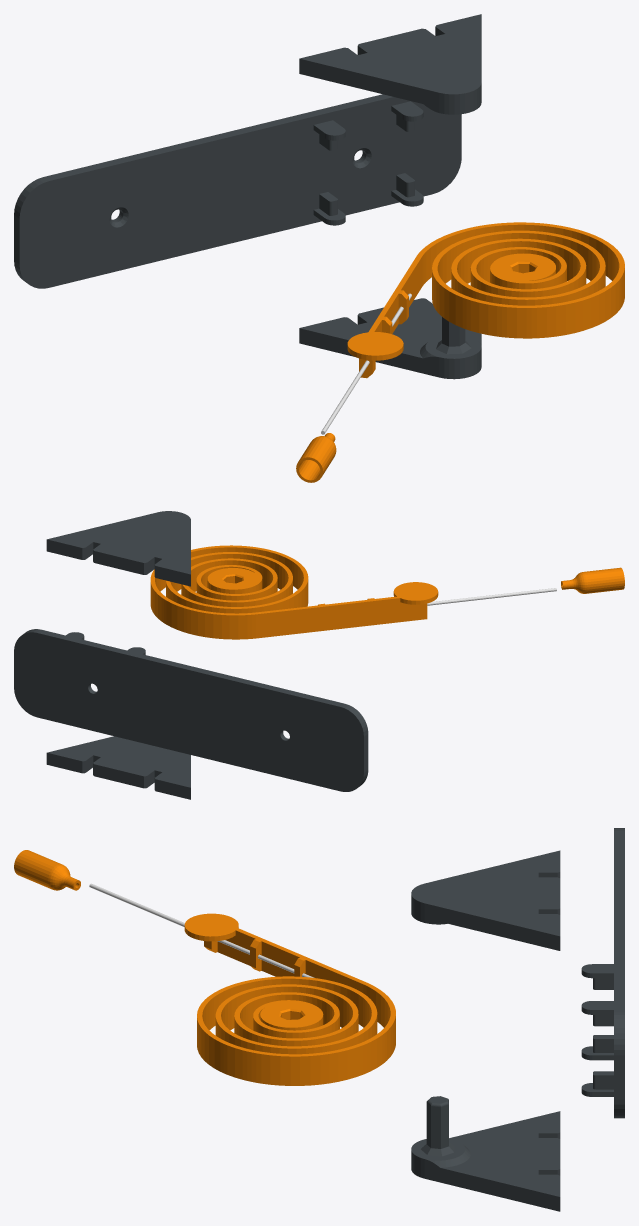
File: exploded.glb
The picture shows the model from 3 angles, top to bottom: view 1: azimuth 30°, elevation 25°; view 2: azimuth 150°, elevation 25°; view 3: azimuth 270°, elevation 25°; orthographic projection. The views are drawn at different scales.
Visible parts, largest first — view 1: Part_1_2, Part_1_4, Part_1_1, Part_1_3, Part_1; view 2: Part_1_2, Part_1_4, Part_1_1, Part_1_3, Part_1, Part_1_5; view 3: Part_1_4, Part_1_3, Part_1_1, Part_1_2, Part_1, Part_1_5.
Part boxes in pixels (x1,y1,x2,y2): Part_1_2: (14,94,461,288); Part_1_4: (347,222,624,378); Part_1_1: (299,14,481,114); Part_1_3: (299,298,481,379); Part_1: (296,433,336,482); Part_1_2: (14,629,368,791); Part_1_4: (150,545,438,639); Part_1_1: (46,511,190,586); Part_1_3: (46,736,190,799); Part_1: (561,567,624,593); Part_1_5: (427,588,556,605); Part_1_4: (184,913,395,1085); Part_1_3: (411,1096,560,1211); Part_1_1: (411,850,560,950); Part_1_2: (581,828,624,1118); Part_1: (14,850,80,890); Part_1_5: (89,883,314,977).
Size of the model in its own units: 192 by 112 by 225.
